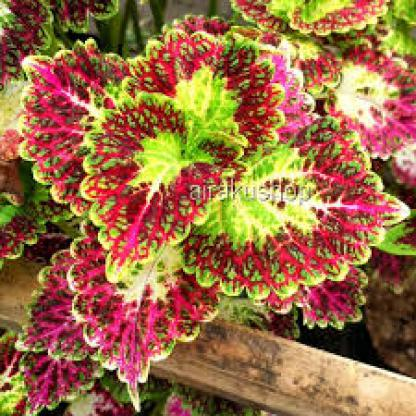Bunga Coleus: (18, 44, 343, 328)
